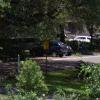Tree: (4, 0, 79, 47)
